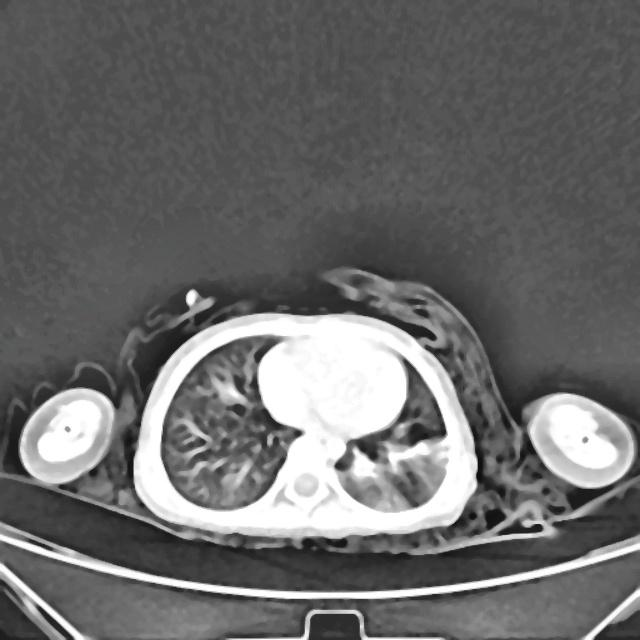covid: (15, 264, 635, 555)
